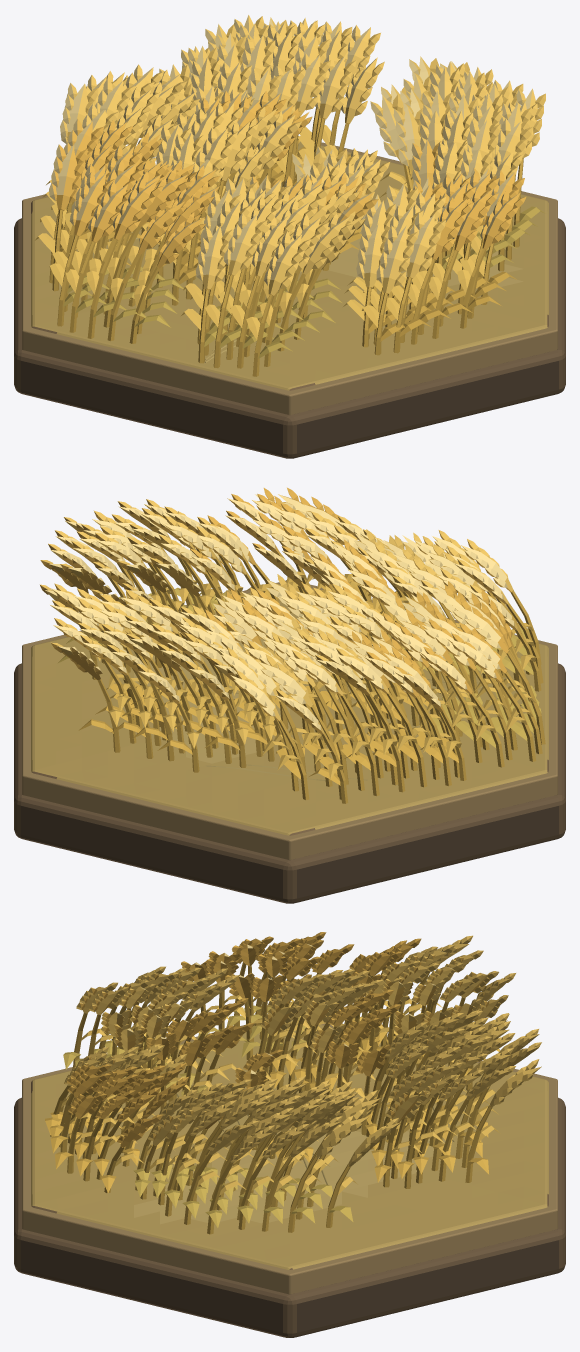
File: fields.glb
3 views of the same model, one above another, from view 1: azimuth 30°, elevation 25°; view 2: azimuth 150°, elevation 25°; view 3: azimuth 270°, elevation 25° (orthographic).
Visible parts, largest first — view 1: Hex_Fields_Terrain, Hex_Fields_Base, Hex_Fields_Wheat_Mass_04, Hex_Fields_Wheat_Mass_05, Hex_Fields_Wheat_Mass_03, Hex_Fields_Wheat_Mass_06, Hex_Fields_Wheat_Mass_02, Hex_Fields_Rim, Hex_Fields_Wheat_Mass_01, Hex_Fields_Wheat_Mass_07, Hex_Fields_Wheat_Fringe_02; view 2: Hex_Fields_Terrain, Hex_Fields_Base, Hex_Fields_Wheat_Mass_01, Hex_Fields_Wheat_Mass_02, Hex_Fields_Rim, Hex_Fields_Wheat_Mass_03, Hex_Fields_Wheat_Mass_06, Hex_Fields_Wheat_Mass_04, Hex_Fields_Wheat_Mass_07, Hex_Fields_Wheat_Mass_05, Hex_Fields_Wheat_Fringe_02; view 3: Hex_Fields_Terrain, Hex_Fields_Base, Hex_Fields_Wheat_Mass_06, Hex_Fields_Wheat_Mass_02, Hex_Fields_Rim, Hex_Fields_Wheat_Mass_04, Hex_Fields_Wheat_Mass_05, Hex_Fields_Wheat_Mass_07, Hex_Fields_Wheat_Mass_01, Hex_Fields_Wheat_Mass_03, Hex_Fields_Wheat_Fringe_01, Hex_Fields_Wheat_Fringe_02.
Boxes of the visible parts, left/top/right/bottom form: Hex_Fields_Terrain: left=31, top=141, right=548, bottom=390; Hex_Fields_Base: left=14, top=218, right=565, bottom=458; Hex_Fields_Wheat_Mass_04: left=181, top=172, right=378, bottom=376; Hex_Fields_Wheat_Mass_05: left=343, top=167, right=526, bottom=355; Hex_Fields_Wheat_Mass_03: left=49, top=145, right=220, bottom=343; Hex_Fields_Wheat_Mass_06: left=370, top=56, right=545, bottom=288; Hex_Fields_Wheat_Mass_02: left=159, top=15, right=384, bottom=216; Hex_Fields_Rim: left=22, top=142, right=557, bottom=414; Hex_Fields_Wheat_Mass_01: left=35, top=64, right=199, bottom=291; Hex_Fields_Wheat_Mass_07: left=140, top=91, right=312, bottom=305; Hex_Fields_Wheat_Fringe_02: left=292, top=146, right=389, bottom=270; Hex_Fields_Terrain: left=31, top=585, right=548, bottom=835; Hex_Fields_Base: left=14, top=663, right=565, bottom=903; Hex_Fields_Wheat_Mass_01: left=219, top=617, right=466, bottom=803; Hex_Fields_Wheat_Mass_02: left=50, top=583, right=284, bottom=772; Hex_Fields_Rim: left=22, top=581, right=557, bottom=859; Hex_Fields_Wheat_Mass_03: left=371, top=581, right=545, bottom=767; Hex_Fields_Wheat_Mass_06: left=40, top=499, right=265, bottom=682; Hex_Fields_Wheat_Mass_04: left=310, top=529, right=543, bottom=698; Hex_Fields_Wheat_Mass_07: left=198, top=574, right=436, bottom=742; Hex_Fields_Wheat_Mass_05: left=207, top=487, right=410, bottom=638; Hex_Fields_Wheat_Fringe_02: left=178, top=605, right=254, bottom=700; Hex_Fields_Terrain: left=31, top=1019, right=548, bottom=1269; Hex_Fields_Base: left=14, top=1097, right=565, bottom=1337; Hex_Fields_Wheat_Mass_06: left=133, top=1076, right=400, bottom=1234; Hex_Fields_Wheat_Mass_02: left=365, top=1010, right=541, bottom=1188; Hex_Fields_Rim: left=22, top=1023, right=557, bottom=1294; Hex_Fields_Wheat_Mass_04: left=63, top=966, right=254, bottom=1109; Hex_Fields_Wheat_Mass_05: left=45, top=1044, right=188, bottom=1192; Hex_Fields_Wheat_Mass_07: left=250, top=969, right=401, bottom=1135; Hex_Fields_Wheat_Mass_01: left=324, top=935, right=515, bottom=1097; Hex_Fields_Wheat_Mass_03: left=181, top=932, right=354, bottom=1059; Hex_Fields_Wheat_Fringe_01: left=235, top=1049, right=283, bottom=1114; Hex_Fields_Wheat_Fringe_02: left=249, top=1081, right=359, bottom=1162.
Size of the model in its own units: 2.38 by 0.9071 by 2.08.
